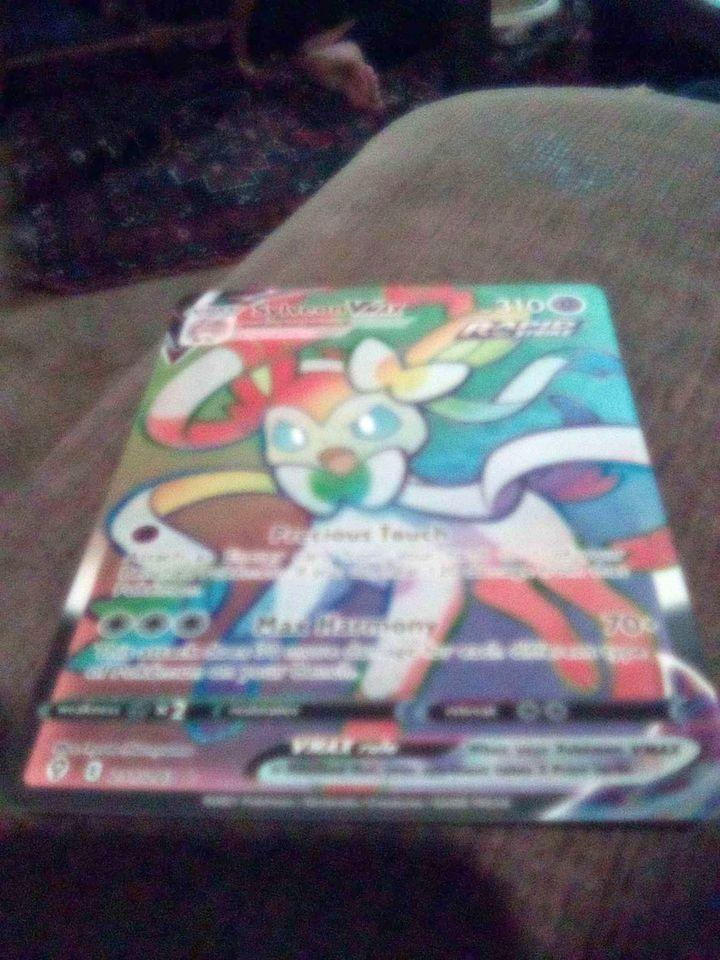card: (4, 281, 719, 822)
name: (251, 297, 410, 322)
set num: (105, 760, 179, 792)
set symbol: (36, 756, 75, 788)
